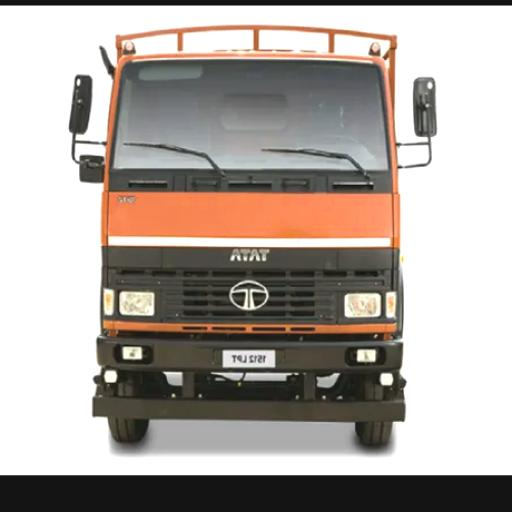truck: (64, 20, 442, 448)
